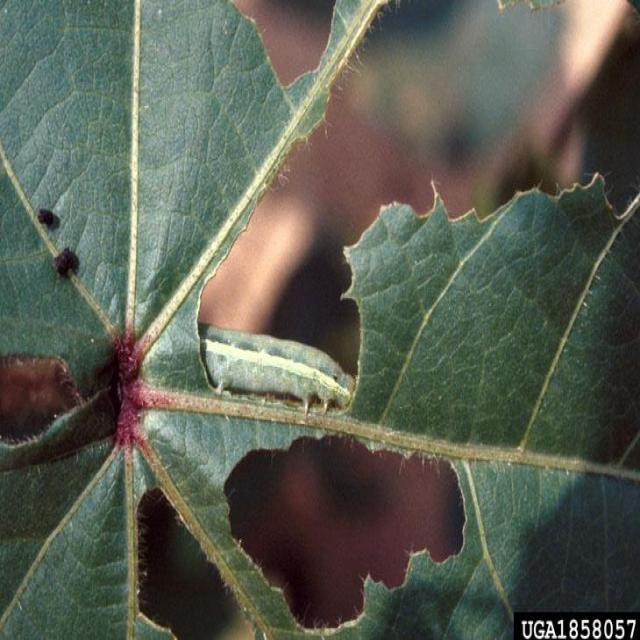BeetArmyWorm-Larva-: (180, 306, 383, 424)
